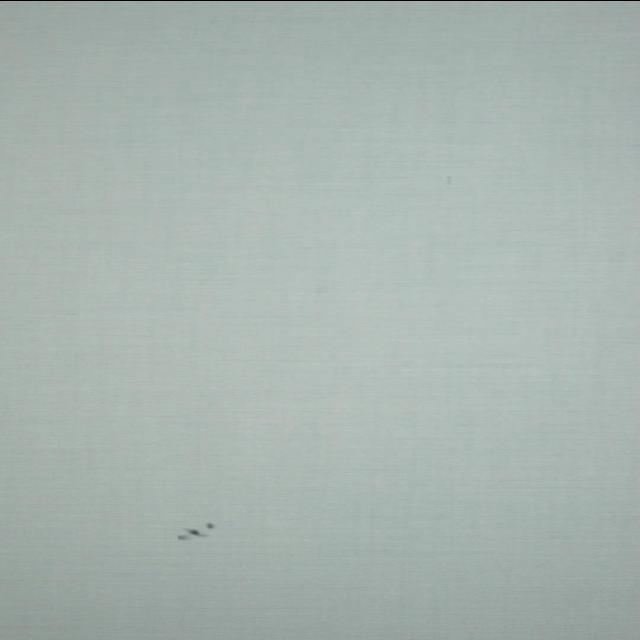dirty: (177, 522, 215, 540)
